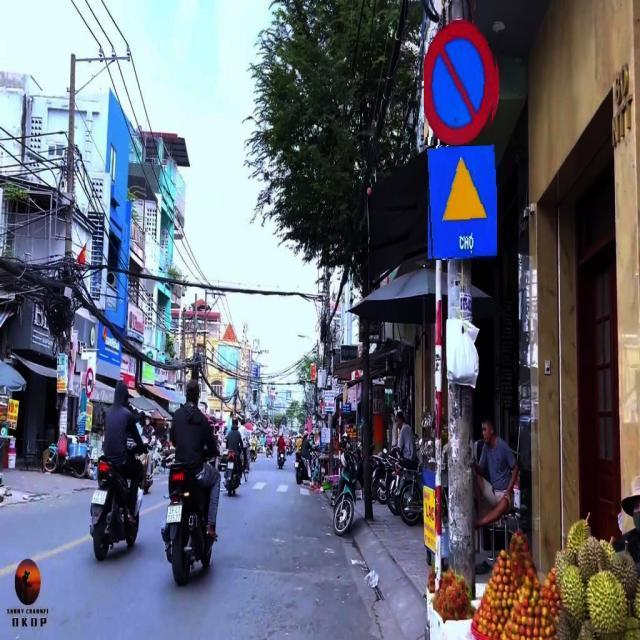106-cam-oto-tai: (86, 369, 94, 397)
131a-cam-do-xe: (424, 21, 494, 142)
442-cho: (426, 146, 498, 260)
